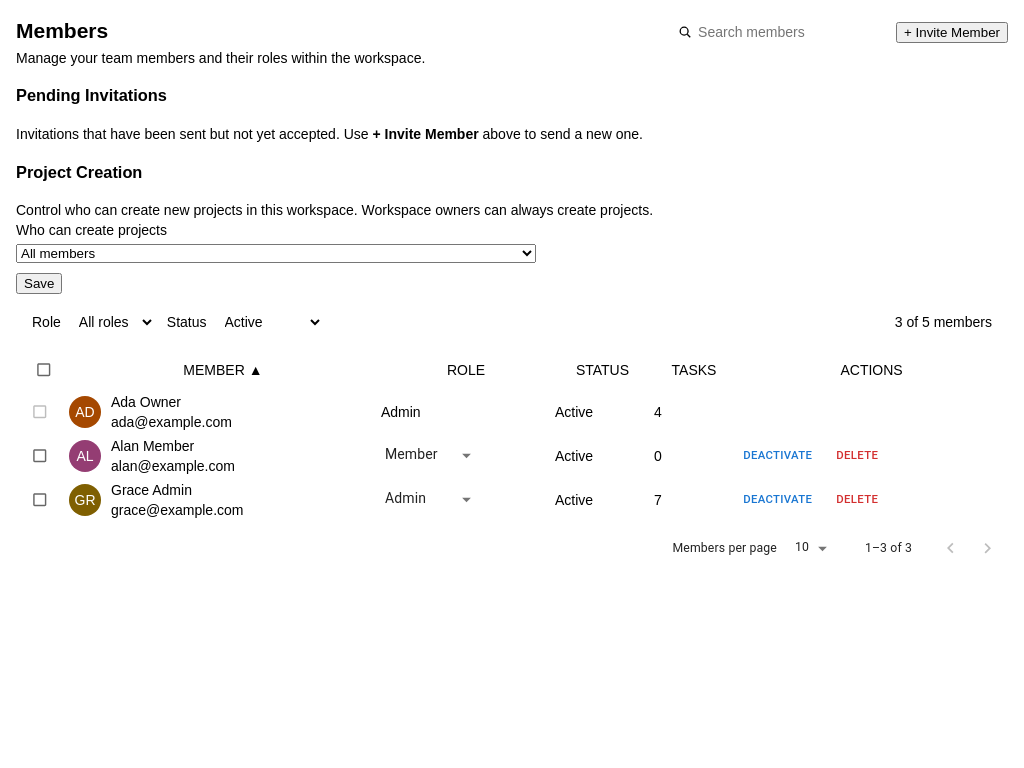
Scenario: JL-417 — Active, Invited and Deactivated are distinguishable › surfaces a failed deactivate
Click the button "Deactivate" in the row of "Alan Member" at (778, 456), box x1=738 y1=442 x2=817 y2=470
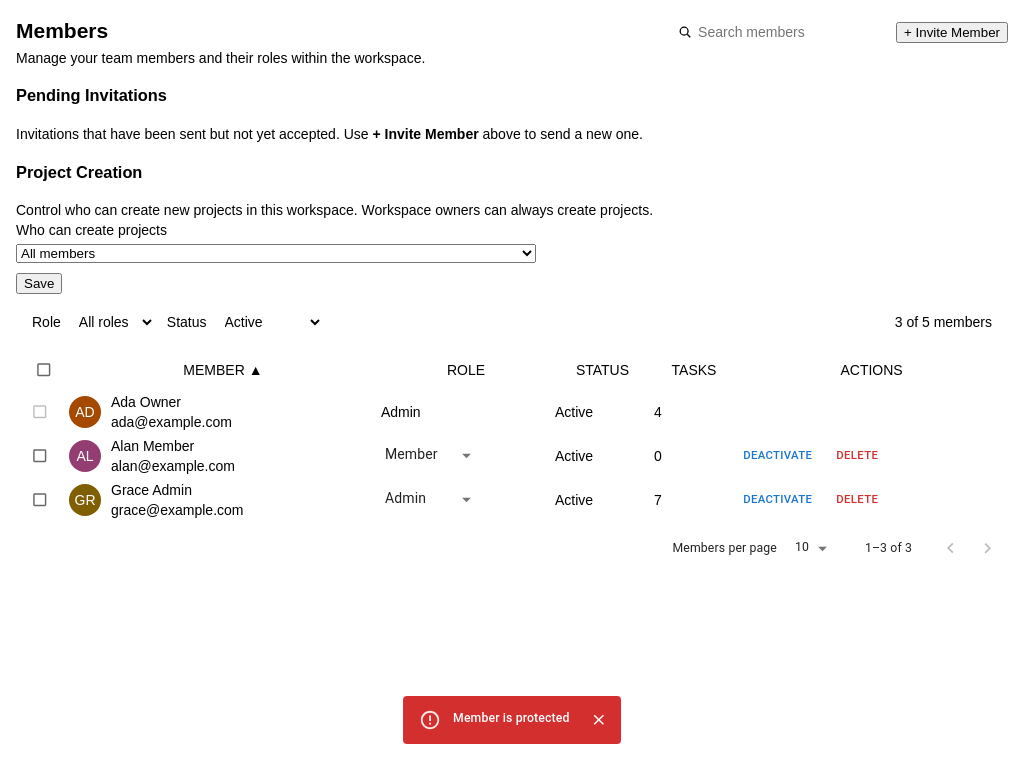
Expected: the text "Member is protected" is shown, x1=453 y1=711 x2=569 y2=725
